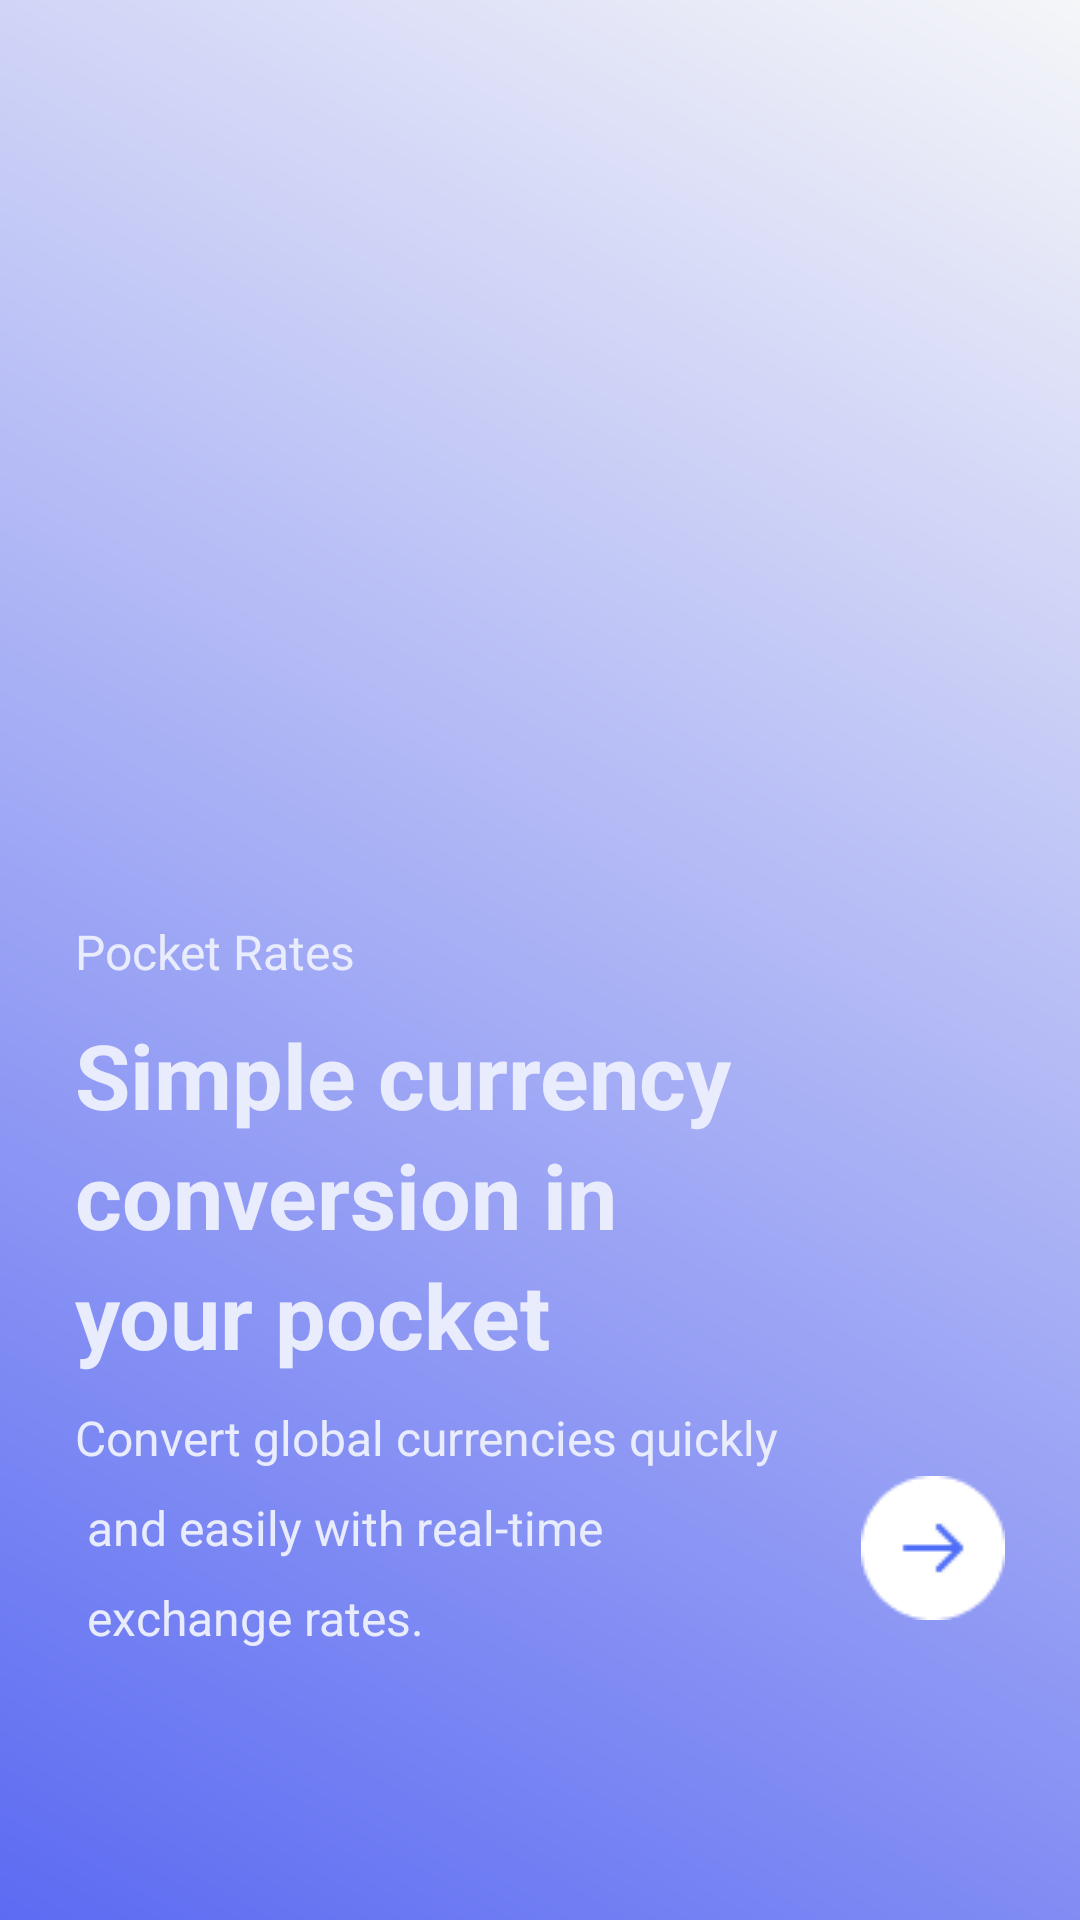

Named icons in this screenshot (1080 × 1920) and their centers, (x=x, y=y):
nxt arrow: (x=933, y=1548)
